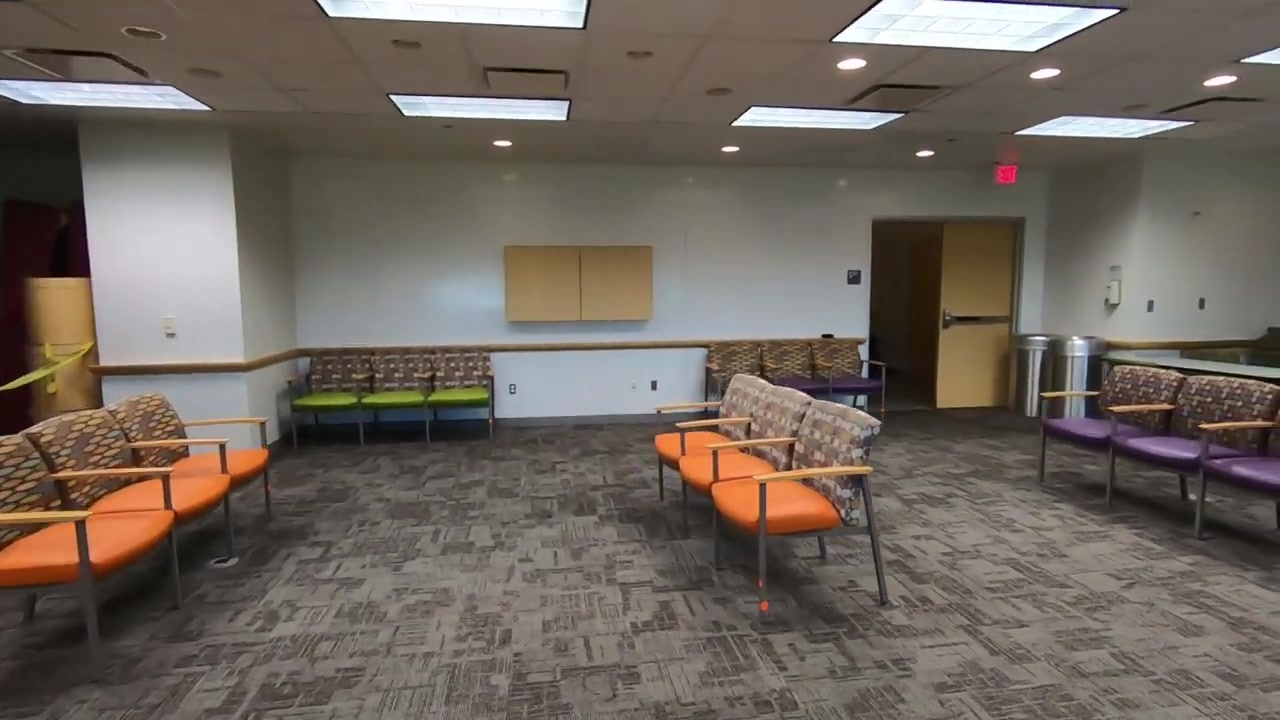chair: (23, 407, 236, 610), (713, 401, 906, 625), (1, 437, 174, 679), (102, 391, 272, 561), (1105, 373, 1275, 537), (681, 385, 814, 568), (1032, 370, 1181, 508), (655, 374, 769, 530), (1194, 398, 1280, 539), (286, 348, 372, 443), (420, 348, 495, 443), (359, 348, 434, 443), (810, 338, 886, 421), (763, 339, 831, 398), (708, 342, 763, 394)
dispenser: (1105, 280, 1121, 307)
push_latch: (944, 314, 1009, 329)
waste_bin: (1050, 337, 1102, 420), (1007, 332, 1054, 417)
